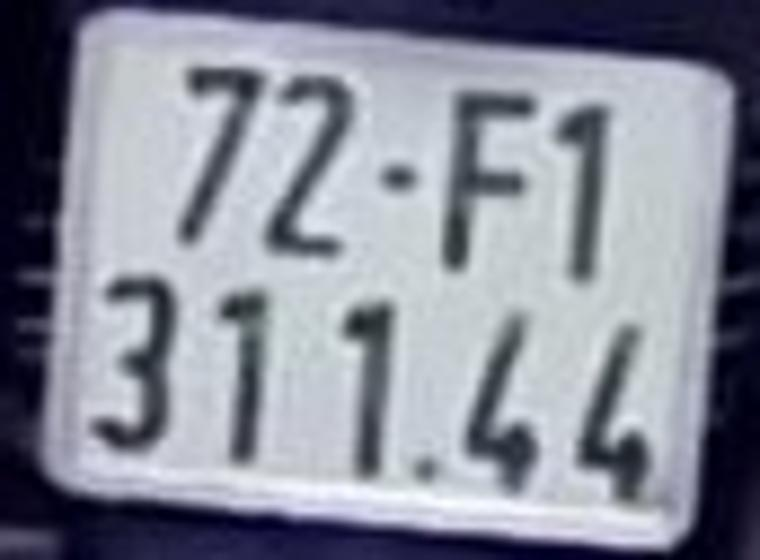-: (378, 157, 416, 195)
.: (408, 451, 437, 486)
1: (335, 287, 397, 481), (551, 95, 612, 288), (214, 279, 273, 468)
2: (268, 76, 360, 248)
3: (96, 270, 177, 452)
4: (465, 295, 537, 500), (573, 321, 650, 504)
7: (173, 61, 265, 243)
F: (443, 85, 537, 278)
